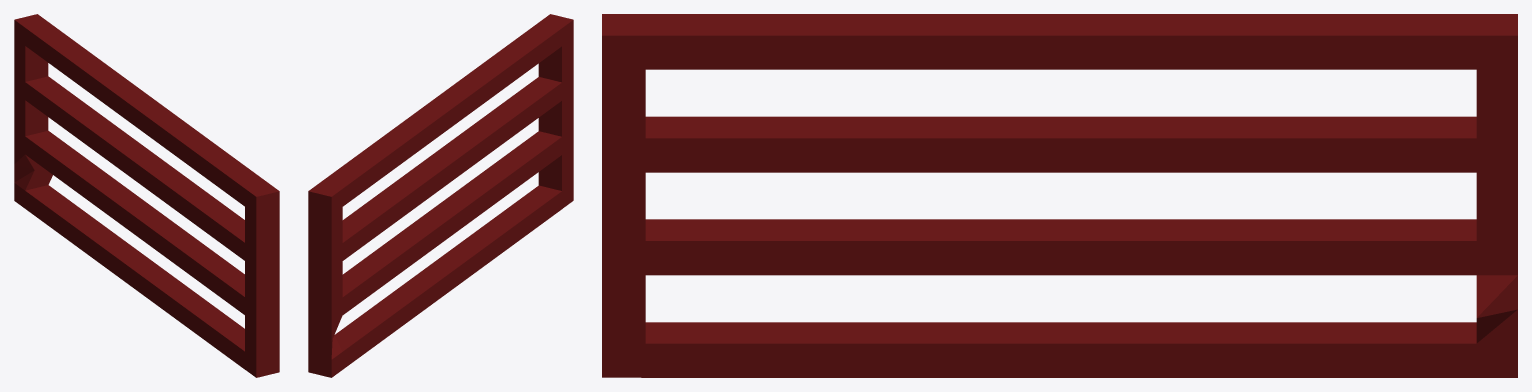
The model's file is GateForConveyorBelt.fbx.
3 views of the same model, side by side, from view 1: azimuth 30°, elevation 25°; view 2: azimuth 150°, elevation 25°; view 3: azimuth 270°, elevation 25° (orthographic). The views are drawn at different scales.
Visible parts, largest first — view 1: polySurface117; view 2: polySurface117; view 3: polySurface117.
Part boxes in pixels (<box>): polySurface117: <box>14,14,279,377</box>; polySurface117: <box>308,14,573,377</box>; polySurface117: <box>602,14,1517,377</box>.
Size of the model in its own units: 0.4642 by 2.45 by 5.93.
